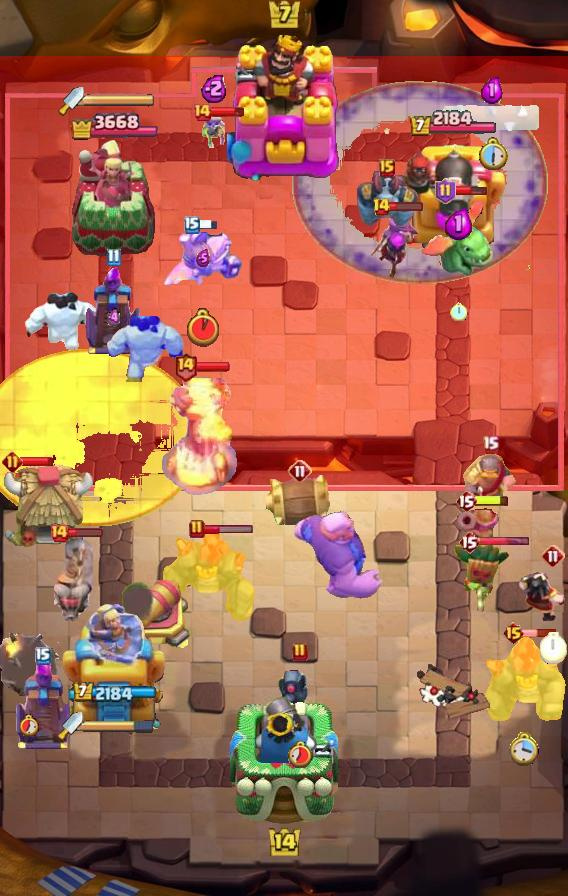baby-dragon: (1, 632, 59, 695)
balloon: (291, 509, 385, 601)
bar: (59, 595, 169, 731), (70, 138, 158, 256)
battle-ram: (275, 667, 325, 721)
bomb-tower: (457, 502, 499, 572)
cannoneer-tower: (161, 525, 259, 627), (482, 636, 568, 724)
electro-dragon: (160, 370, 238, 498)
electro-spirit: (445, 208, 471, 240), (201, 73, 228, 103), (481, 76, 503, 104), (107, 308, 120, 328), (196, 249, 210, 267)
electro-wizard: (418, 196, 498, 278)
elite-barbarian: (49, 538, 93, 624)
elixir: (187, 308, 219, 347), (509, 730, 541, 766), (477, 137, 507, 171), (540, 632, 567, 664), (287, 740, 313, 768), (20, 714, 40, 736), (449, 302, 467, 321)
elixir-golem-small: (354, 170, 420, 230)
emote: (478, 537, 530, 548), (202, 525, 253, 536), (474, 494, 510, 507), (67, 526, 104, 538), (209, 106, 245, 118), (195, 361, 231, 373), (453, 185, 488, 197), (20, 456, 54, 468), (388, 201, 424, 212), (522, 628, 557, 638), (198, 219, 217, 231)
firecracker: (463, 453, 517, 509)
freeze: (162, 230, 244, 304)
goblin: (198, 108, 230, 150)
goblin-barrel: (451, 540, 511, 616)
ice-spirit-evolution-symbol: (83, 264, 143, 356), (13, 659, 73, 751)
king-tower: (227, 29, 341, 181), (230, 692, 338, 826)
king-tower-bar: (84, 93, 156, 107), (83, 719, 155, 733)
lumberjack: (516, 570, 568, 624)
minion: (440, 100, 544, 134)
phoenix-egg: (0, 349, 202, 526)
prince: (0, 463, 94, 553)
rage: (104, 316, 188, 382), (22, 289, 106, 353)
rascal-girl: (368, 212, 420, 282)
rocket: (292, 81, 548, 285)
royal-recruit: (119, 580, 191, 654)
selected: (70, 110, 158, 144), (410, 110, 499, 138), (72, 682, 156, 704)
text: (174, 350, 199, 381), (288, 459, 312, 483), (541, 544, 565, 568), (503, 621, 526, 645), (435, 178, 456, 204), (455, 489, 477, 513), (458, 530, 480, 554), (2, 451, 23, 473), (192, 102, 212, 122), (49, 523, 69, 543), (372, 197, 391, 217), (481, 435, 499, 454), (189, 519, 205, 539), (292, 642, 308, 662), (379, 159, 395, 177), (184, 216, 200, 234), (35, 647, 51, 665), (106, 248, 121, 267)
the-log: (263, 474, 337, 526)
tower-bar: (399, 138, 507, 256)
